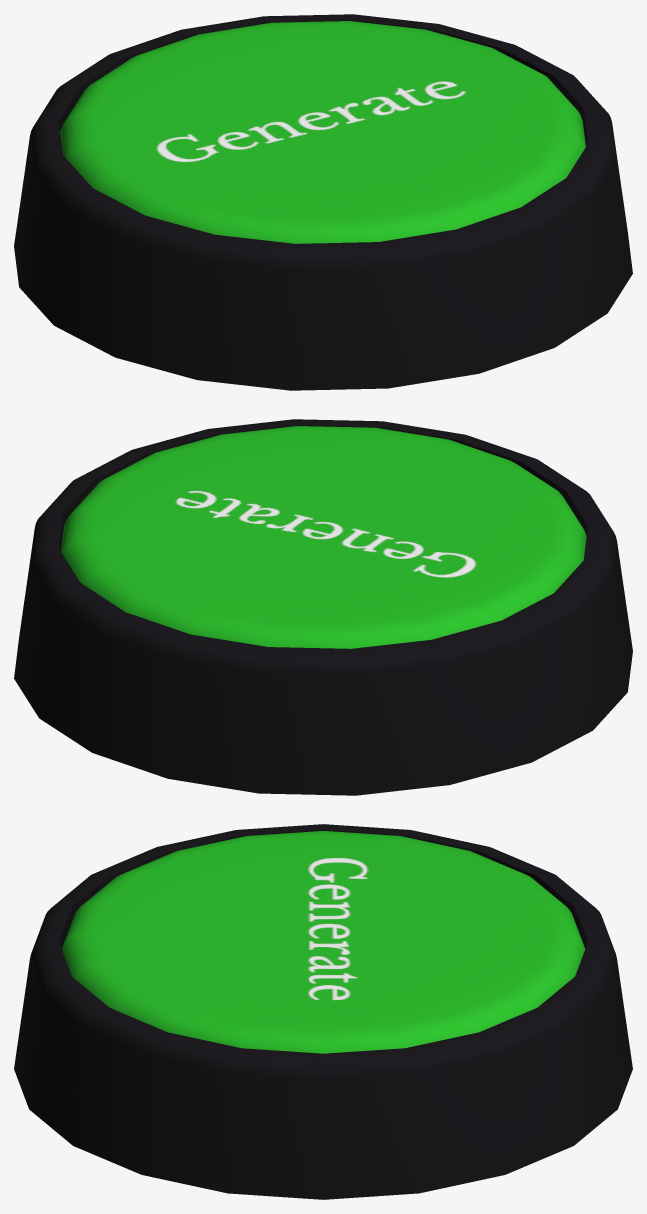
The model's file is buttonGreenPressed.glb.
3 renders of one model, top to bottom at view 1: azimuth 30°, elevation 25°; view 2: azimuth 150°, elevation 25°; view 3: azimuth 270°, elevation 25°, orthographic.
Visible parts, largest first — view 1: buttonPressedGreen; view 2: buttonPressedGreen; view 3: buttonPressedGreen.
Boxes of the visible parts, x1,y1,x2,y2 form: buttonPressedGreen: (14, 14, 632, 390); buttonPressedGreen: (14, 419, 632, 795); buttonPressedGreen: (14, 824, 632, 1199).
Bounding box in the file's own units: 0.4609 × 0.1119 × 0.4609.
Materials: 1 (1 with a texture image).
